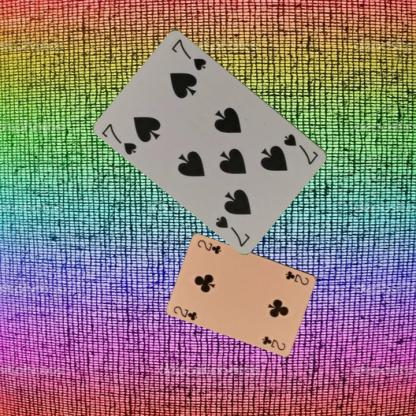2c: (283, 268, 310, 287), (171, 304, 199, 322)
7s: (98, 120, 138, 156), (282, 132, 320, 166)
